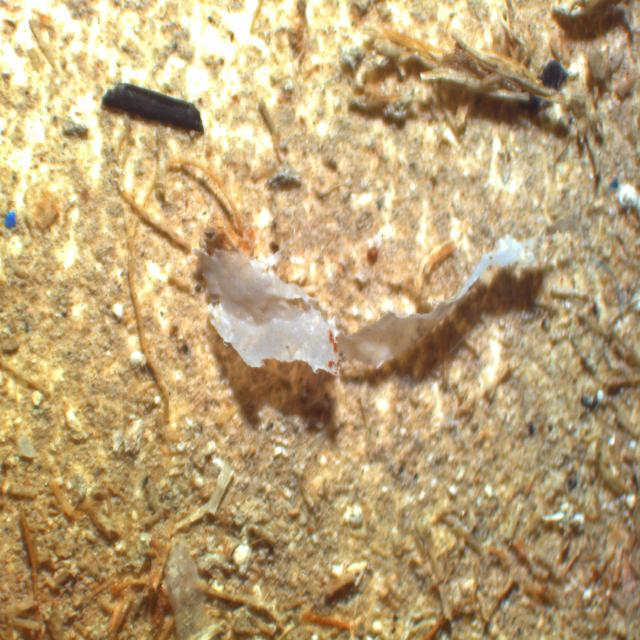microplastic: (207, 250, 341, 381)
